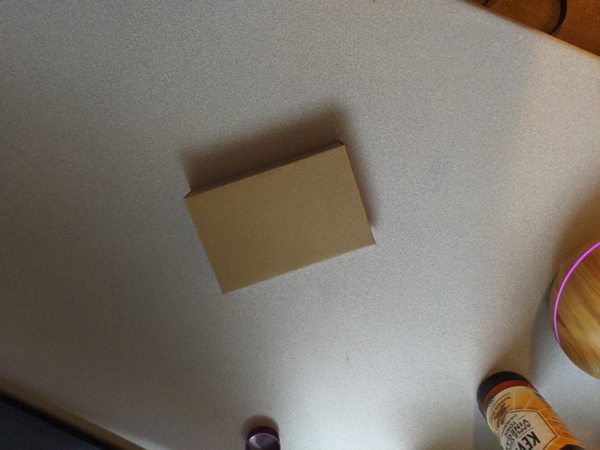cardboard: (157, 128, 404, 294)
